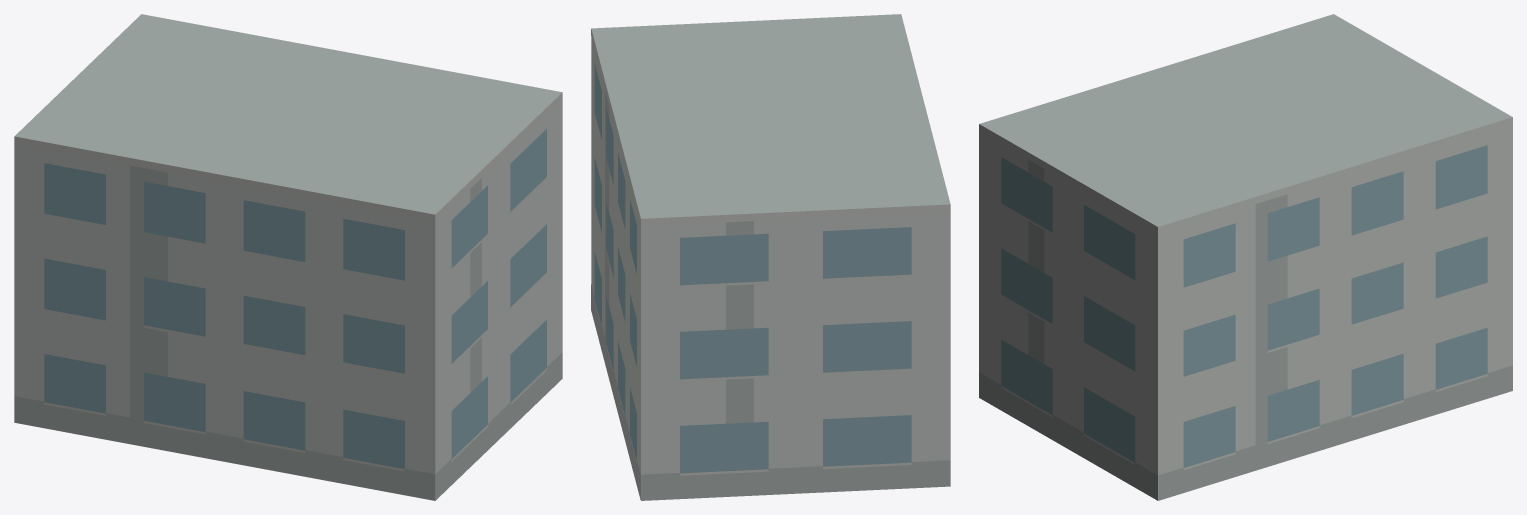
Rendered from residential-2faa0273-449b-47f3-a411-9bff8c39f544.glb.
The picture shows the model from 3 angles, left to right: view 1: azimuth 30°, elevation 25°; view 2: azimuth 150°, elevation 25°; view 3: azimuth 270°, elevation 25°; orthographic projection. The views are drawn at different scales.
Parts seen in each view (by area): view 1: residential-2faa0273-449b-47f3-a411-9bff8c39f544.tmp; view 2: residential-2faa0273-449b-47f3-a411-9bff8c39f544.tmp; view 3: residential-2faa0273-449b-47f3-a411-9bff8c39f544.tmp.
Boxes of the visible parts, left/top/right/bottom form: residential-2faa0273-449b-47f3-a411-9bff8c39f544.tmp: left=14, top=14, right=562, bottom=500; residential-2faa0273-449b-47f3-a411-9bff8c39f544.tmp: left=591, top=14, right=950, bottom=500; residential-2faa0273-449b-47f3-a411-9bff8c39f544.tmp: left=979, top=14, right=1512, bottom=500.
Bounding box in the file's own units: 15.28 × 9.15 × 16.17.
